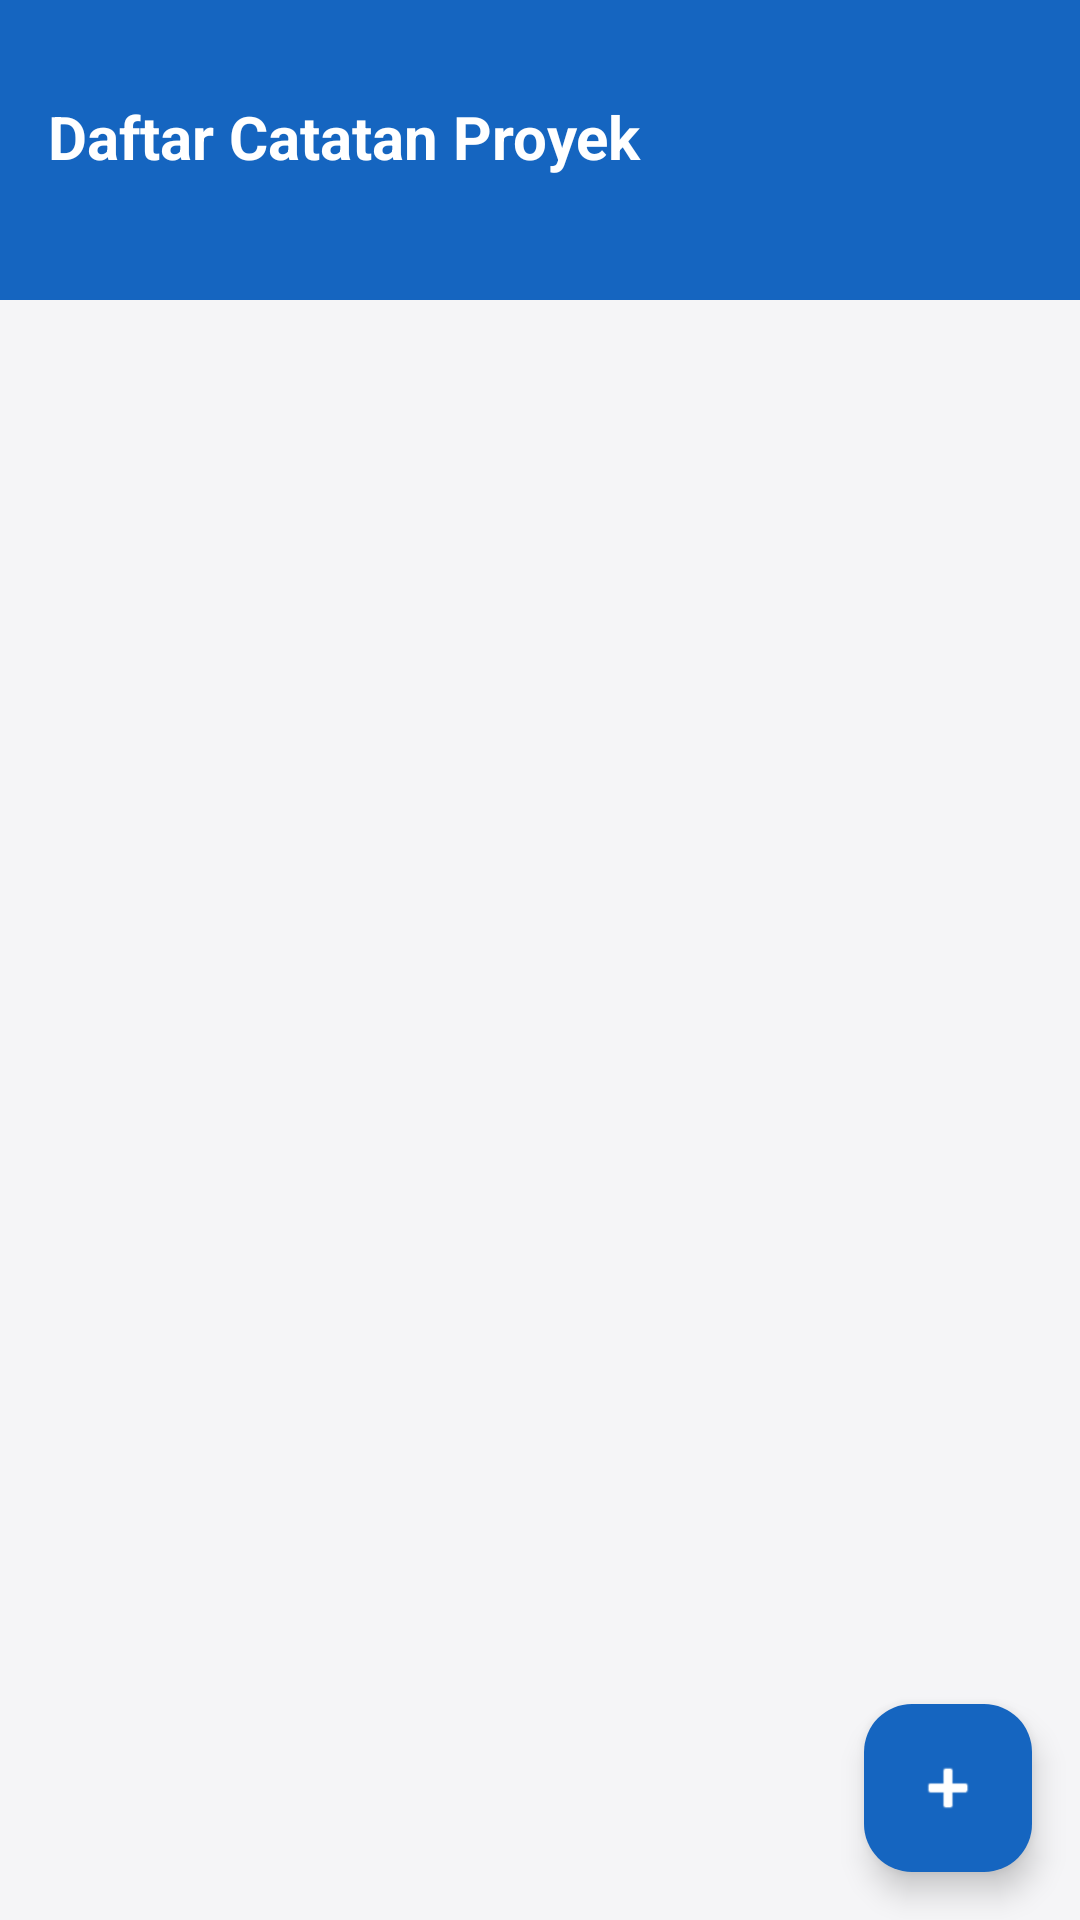

Icon click points for this 1080px×1920px phone screenshot, format point (x, y):
Tambah Note: point (948, 1788)
